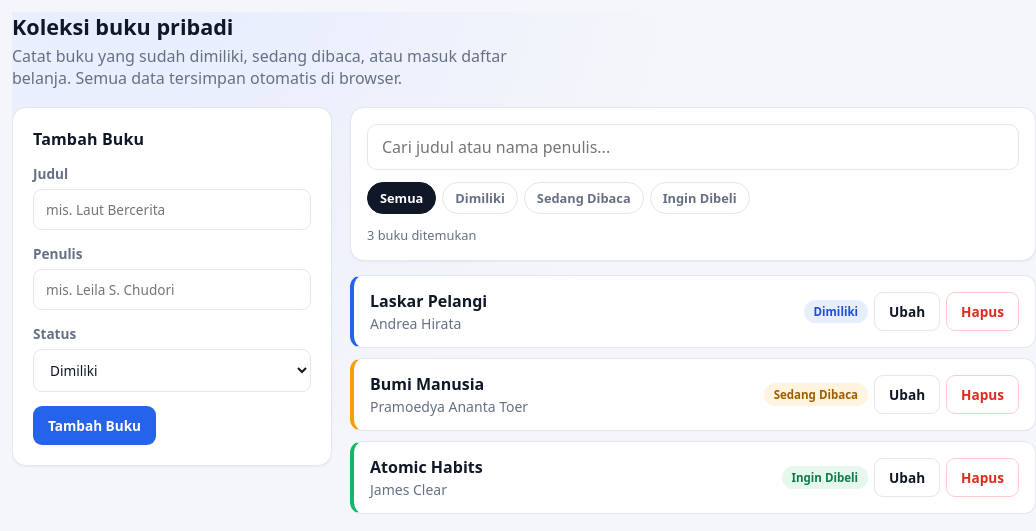
Test: Home › memfilter daftar lewat kata kunci penulis
Check: the number of list items is 3, box [350,275,1035,348]; [350,358,1035,431]; [350,441,1035,514]
Type "pram" into the search field at (693, 147), box [367,124,1019,170]
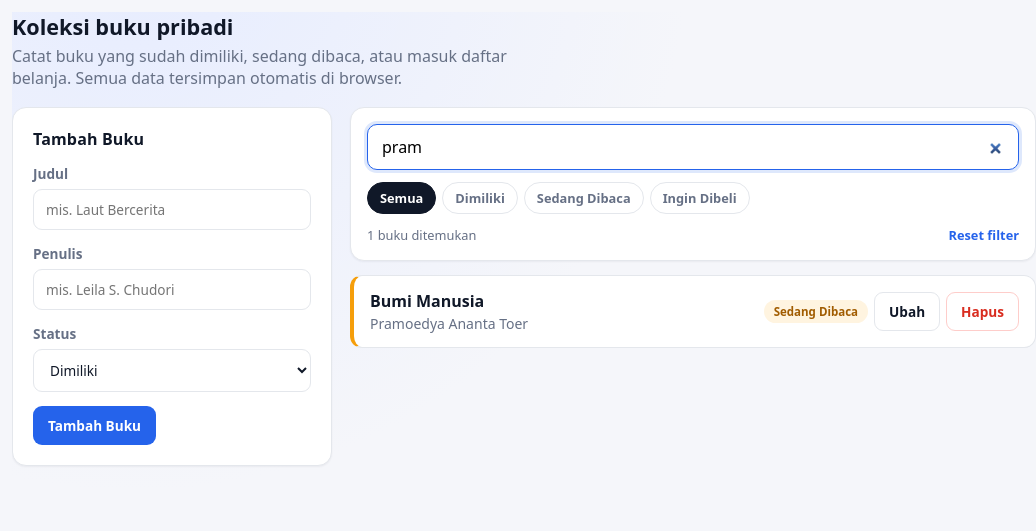
Check: the heading "Bumi Manusia" is shown, box [370,290,484,312]
Check: the number of list items is 1, box [350,275,1035,348]
Check: the text "1 buku ditemukan" is shown, box [367,226,476,244]
